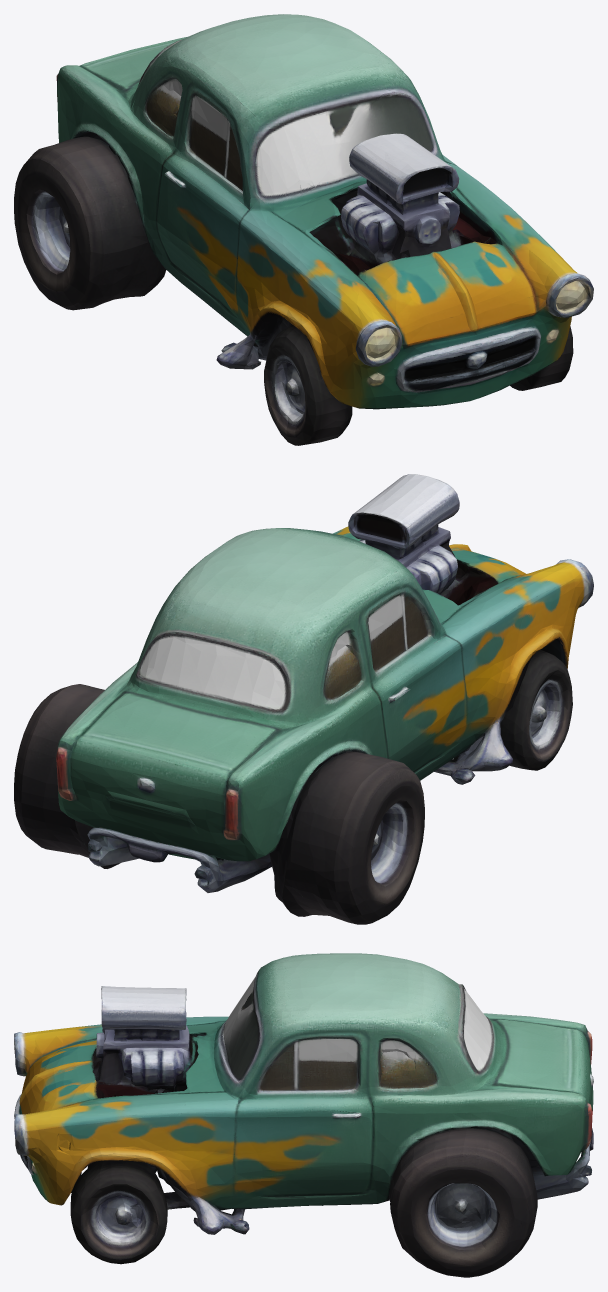
Rendered from car_taxi.glb.
3 views of the same model, one above another, from view 1: azimuth 30°, elevation 25°; view 2: azimuth 150°, elevation 25°; view 3: azimuth 270°, elevation 25° (orthographic). The views are drawn at different scales.
Parts seen in each view (by area): view 1: world; view 2: world; view 3: world.
Boxes of the visible parts, x1=… form: world: x1=14, y1=14, x2=593, y2=445; world: x1=14, y1=474, x2=593, y2=924; world: x1=14, y1=953, x2=593, y2=1277.
Bounding box in the file's own units: 0.6035 × 0.454 × 1.
1 material, 1 textured.
